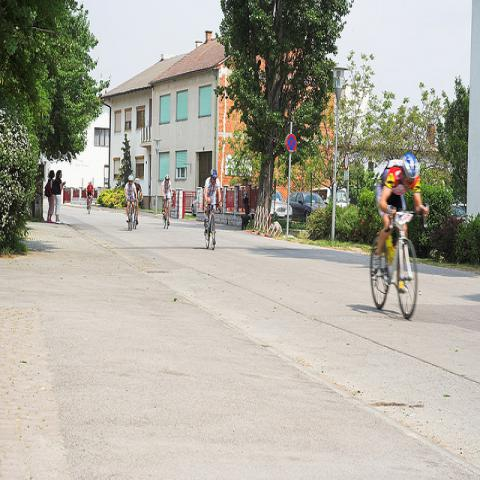car: (286, 192, 327, 224), (312, 185, 349, 210), (270, 191, 293, 221), (452, 203, 466, 219)
